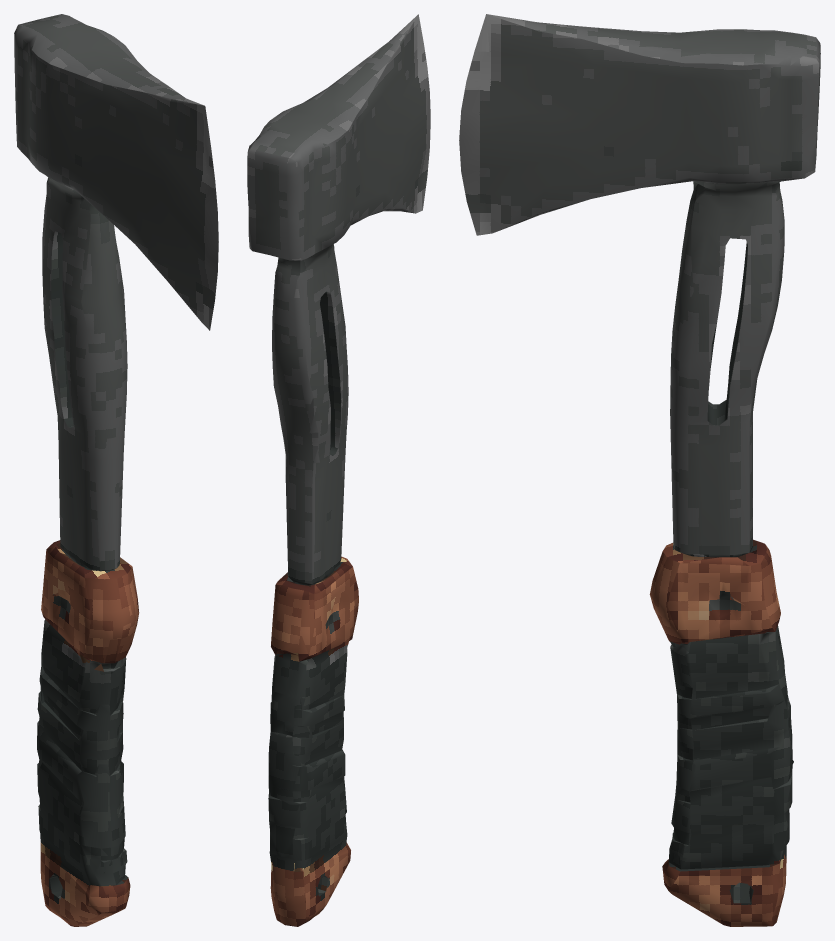
File: hatchet.glb
3 renders of one model, left to right at view 1: azimuth 30°, elevation 25°; view 2: azimuth 150°, elevation 25°; view 3: azimuth 270°, elevation 25°, orthographic. The views are drawn at different scales.
Visible parts, largest first — view 1: body; view 2: body; view 3: body.
Part boxes in pixels (x1,y1,x2,y2): body: [14, 14, 218, 926]; body: [247, 14, 430, 926]; body: [459, 14, 820, 926].
Bounding box in the file's own units: 0.026 × 0.2887 × 0.1041.
Materials: 1 (1 with a texture image).
